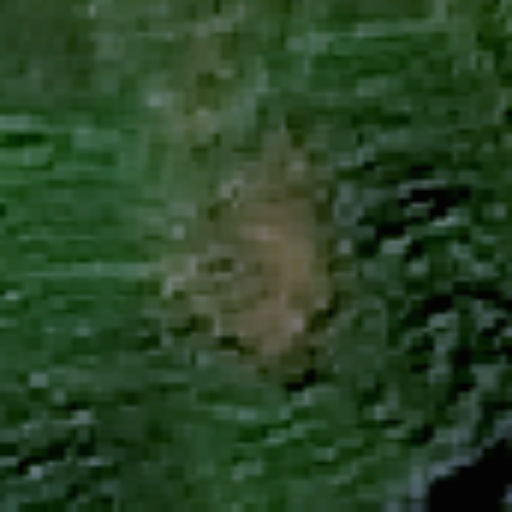landslide: (191, 185, 349, 359)
